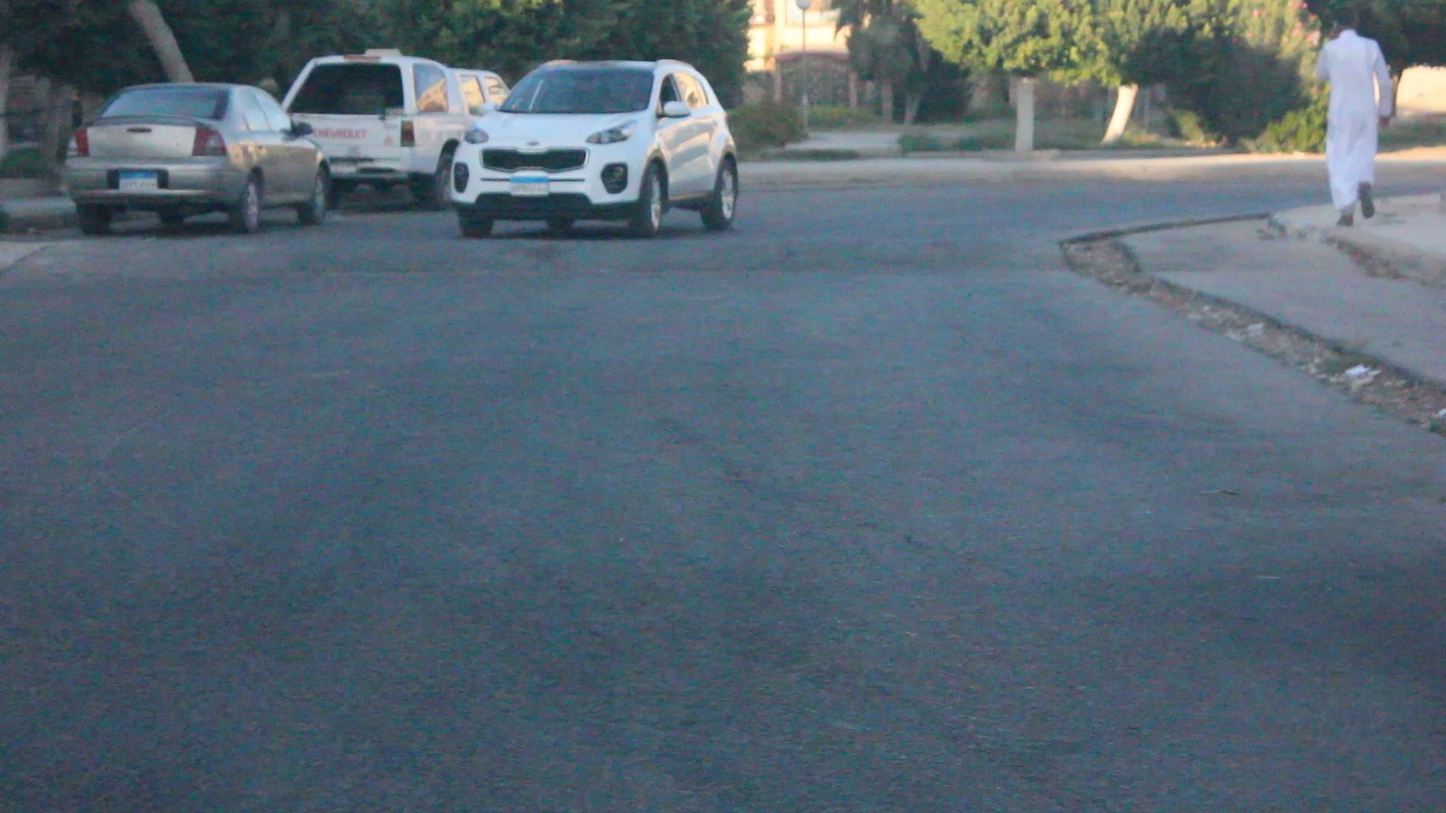Bump: (23, 241, 1073, 282)
